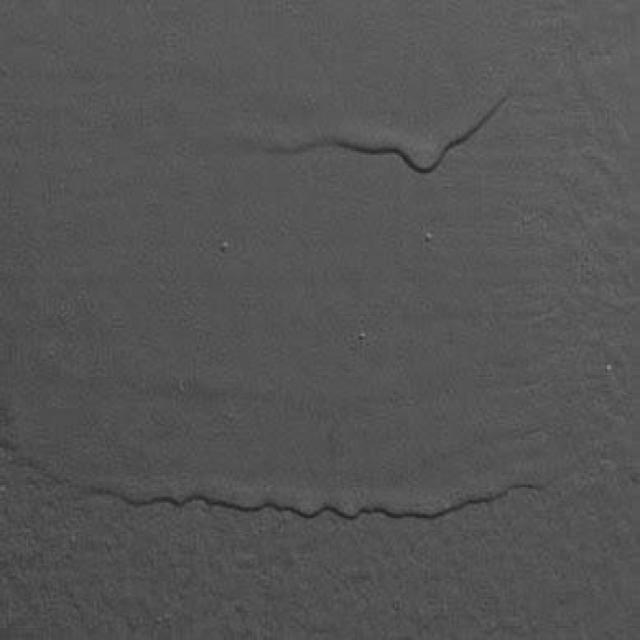paint drips: (55, 409, 587, 578), (242, 49, 548, 232)
